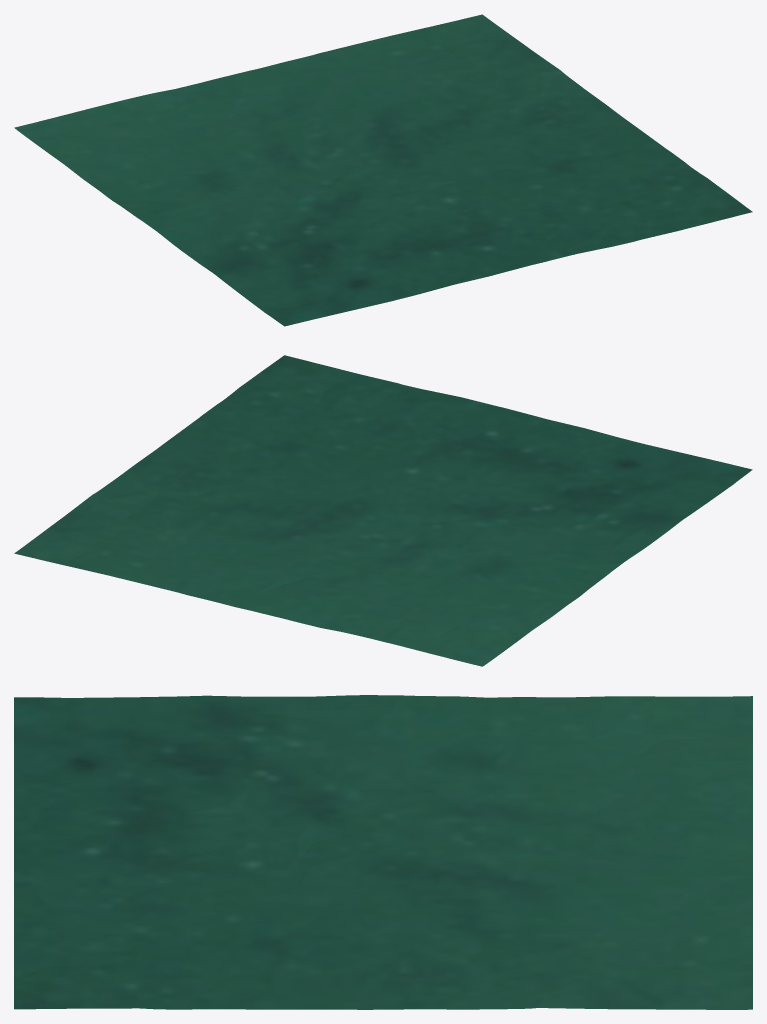
3 renders of one model, top to bottom at view 1: azimuth 30°, elevation 25°; view 2: azimuth 150°, elevation 25°; view 3: azimuth 270°, elevation 25°, orthographic. The views are drawn at different scales.
Size of the model in its own units: 52.22 by 0.3552 by 52.22.
2 materials, 2 textured.
